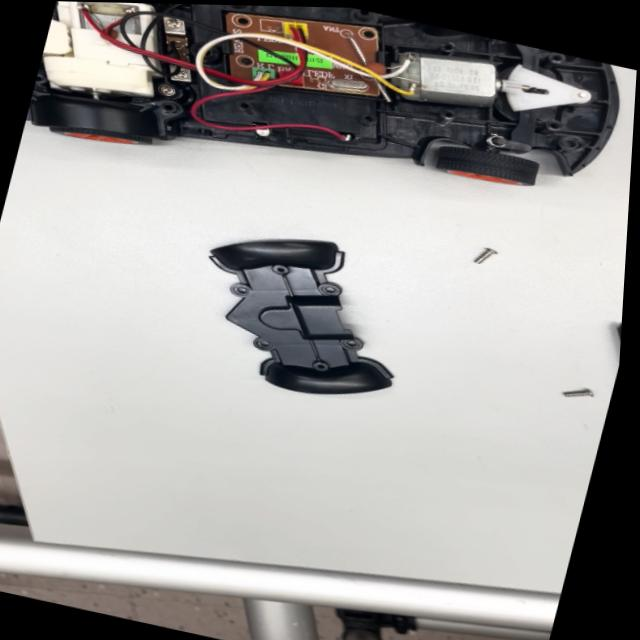Chassis: (21, 1, 637, 251)
motor: (382, 35, 539, 129)
motor_cover: (162, 213, 447, 422)
screw: (546, 376, 600, 415), (469, 240, 513, 273)
wheel: (421, 136, 549, 209)
